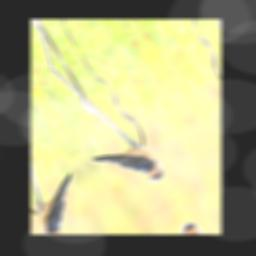Swallow: (85, 125, 171, 213)
